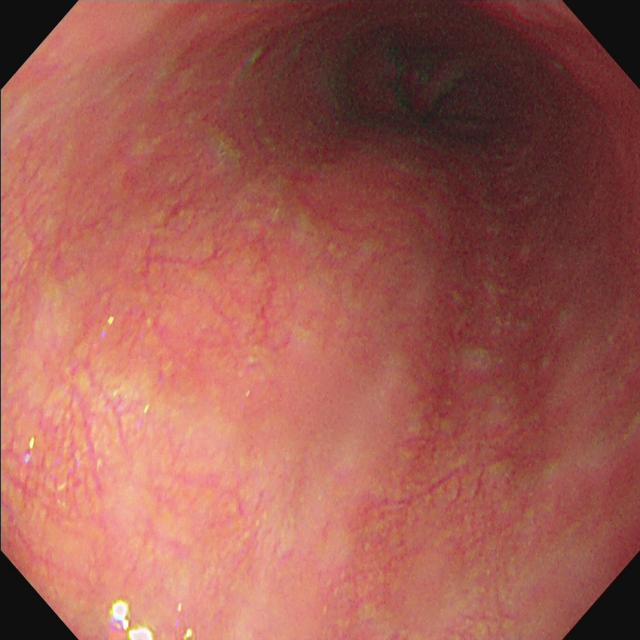E: (334, 15, 533, 152)
U: (110, 598, 156, 640)
